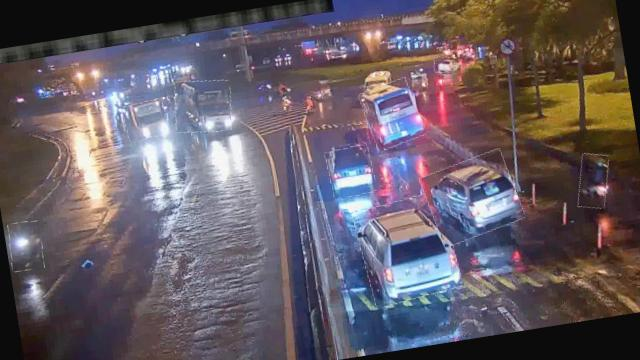Bike: (574, 152, 614, 210), (6, 220, 45, 272)
Bus: (360, 78, 425, 150)
Car: (353, 192, 462, 306), (420, 150, 525, 246), (326, 144, 376, 198), (433, 55, 458, 75)
Truck: (170, 75, 236, 136), (123, 98, 170, 141)
